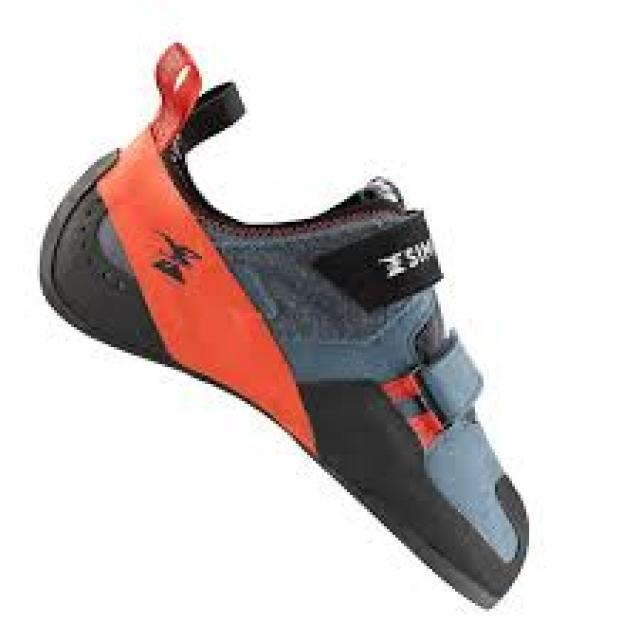climbing-shoes: (40, 41, 533, 612)
